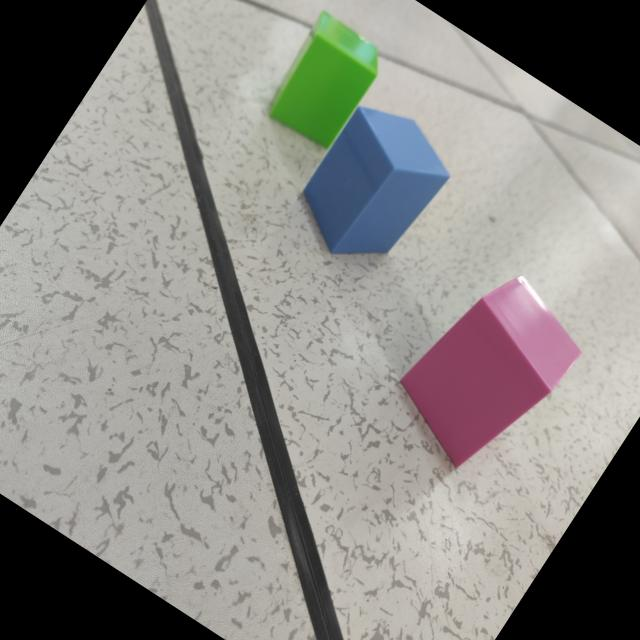blue: (299, 107, 449, 256)
green: (266, 13, 377, 149)
pink: (397, 276, 580, 468)
